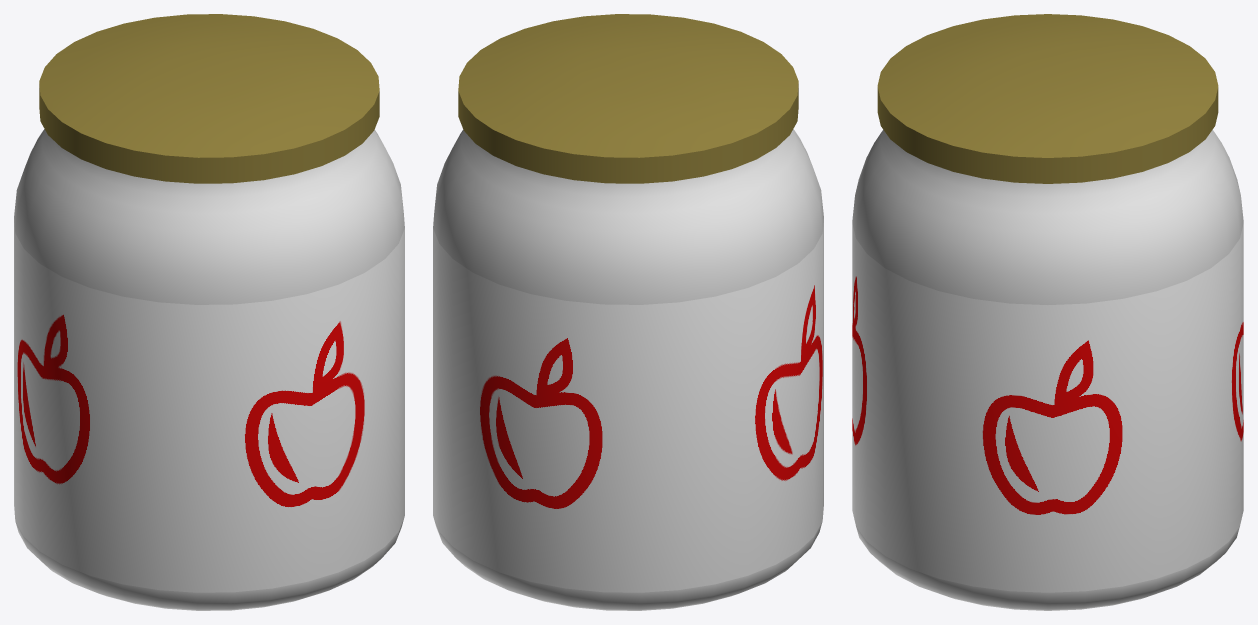
The model's file is Jar_apple.fbx.
3 views of the same model, side by side, from view 1: azimuth 30°, elevation 25°; view 2: azimuth 150°, elevation 25°; view 3: azimuth 270°, elevation 25° (orthographic).
Parts seen in each view (by area): view 1: Jar_apple; view 2: Jar_apple; view 3: Jar_apple.
Part boxes in pixels (x1,y1,x2,y2): Jar_apple: (14,14,404,610); Jar_apple: (433,14,823,610); Jar_apple: (852,14,1243,610).
Size of the model in its own units: 26.9 by 26.9 by 35.8.
